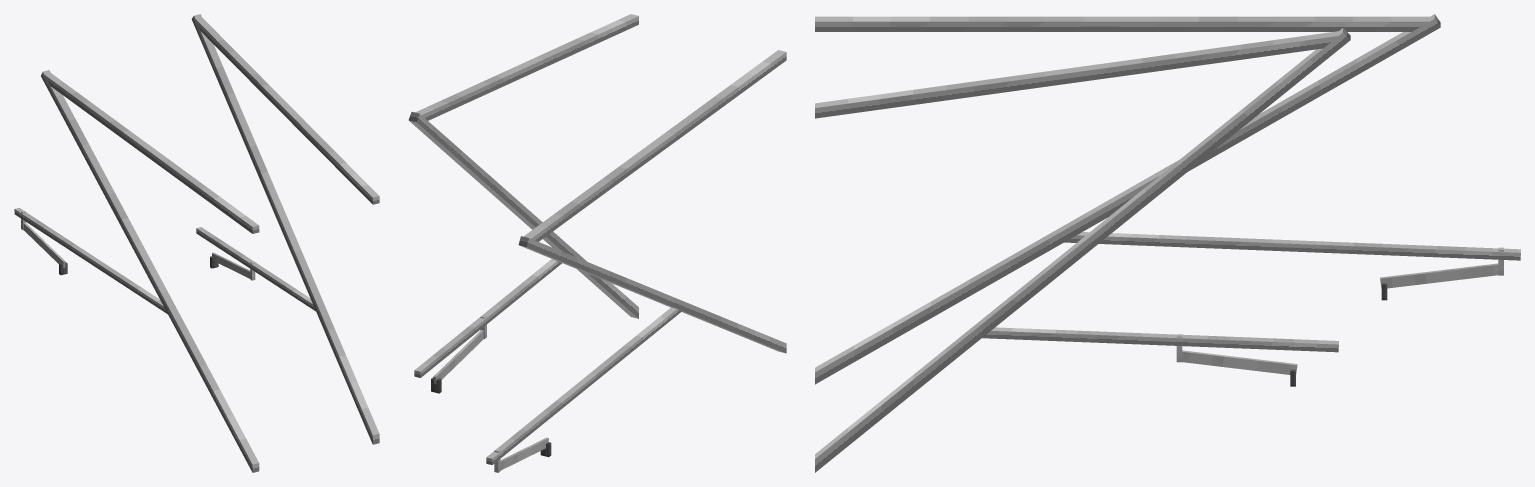
Rendered from cantilever_center_4px.obj.
3 renders of one model, left to right at view 1: azimuth 30°, elevation 25°; view 2: azimuth 150°, elevation 25°; view 3: azimuth 270°, elevation 25°, orthographic. The views are drawn at different scales.
Parts seen in each view (by area): view 1: b5a1ad8d-24fb-4c48-b603-6a2b8c5637f5, fe001e70-6988-444d-b9f4-202b1eba5b4e, 249144de-5c40-4c9c-9e65-23805a752ef8, 2f98334c-fcbb-4794-8dc1-188dc500f220, db811776-64b1-4674-a29a-4e8ae3a3de66, 60c98d07-7325-4ce7-8a82-6d3549a193d3, fd394bd4-345e-45ac-b3c0-b023b3534b70; view 2: 249144de-5c40-4c9c-9e65-23805a752ef8, b5a1ad8d-24fb-4c48-b603-6a2b8c5637f5, 2f98334c-fcbb-4794-8dc1-188dc500f220, fe001e70-6988-444d-b9f4-202b1eba5b4e, db811776-64b1-4674-a29a-4e8ae3a3de66, 60c98d07-7325-4ce7-8a82-6d3549a193d3, 1dd75f70-cd3e-4e54-8dca-53d78babf76a, fd394bd4-345e-45ac-b3c0-b023b3534b70; view 3: b5a1ad8d-24fb-4c48-b603-6a2b8c5637f5, 249144de-5c40-4c9c-9e65-23805a752ef8, fe001e70-6988-444d-b9f4-202b1eba5b4e, 2f98334c-fcbb-4794-8dc1-188dc500f220, db811776-64b1-4674-a29a-4e8ae3a3de66, 60c98d07-7325-4ce7-8a82-6d3549a193d3, fd394bd4-345e-45ac-b3c0-b023b3534b70, 1dd75f70-cd3e-4e54-8dca-53d78babf76a.
Part boxes in pixels (x1=…): b5a1ad8d-24fb-4c48-b603-6a2b8c5637f5: x1=191, y1=14, x2=379, y2=444; fe001e70-6988-444d-b9f4-202b1eba5b4e: x1=41, y1=70, x2=259, y2=472; 249144de-5c40-4c9c-9e65-23805a752ef8: x1=45, y1=73, x2=259, y2=233; 2f98334c-fcbb-4794-8dc1-188dc500f220: x1=195, y1=17, x2=379, y2=204; db811776-64b1-4674-a29a-4e8ae3a3de66: x1=14, y1=208, x2=167, y2=314; 60c98d07-7325-4ce7-8a82-6d3549a193d3: x1=196, y1=227, x2=315, y2=311; fd394bd4-345e-45ac-b3c0-b023b3534b70: x1=23, y1=222, x2=65, y2=267; 249144de-5c40-4c9c-9e65-23805a752ef8: x1=524, y1=50, x2=786, y2=241; b5a1ad8d-24fb-4c48-b603-6a2b8c5637f5: x1=408, y1=112, x2=638, y2=318; 2f98334c-fcbb-4794-8dc1-188dc500f220: x1=415, y1=14, x2=638, y2=120; fe001e70-6988-444d-b9f4-202b1eba5b4e: x1=518, y1=236, x2=786, y2=353; db811776-64b1-4674-a29a-4e8ae3a3de66: x1=486, y1=307, x2=681, y2=464; 60c98d07-7325-4ce7-8a82-6d3549a193d3: x1=414, y1=259, x2=561, y2=377; 1dd75f70-cd3e-4e54-8dca-53d78babf76a: x1=433, y1=330, x2=483, y2=384; fd394bd4-345e-45ac-b3c0-b023b3534b70: x1=500, y1=437, x2=548, y2=470; b5a1ad8d-24fb-4c48-b603-6a2b8c5637f5: x1=815, y1=28, x2=1350, y2=472; 249144de-5c40-4c9c-9e65-23805a752ef8: x1=815, y1=16, x2=1429, y2=31; fe001e70-6988-444d-b9f4-202b1eba5b4e: x1=815, y1=14, x2=1440, y2=384; 2f98334c-fcbb-4794-8dc1-188dc500f220: x1=815, y1=31, x2=1338, y2=118; db811776-64b1-4674-a29a-4e8ae3a3de66: x1=1064, y1=232, x2=1520, y2=260; 60c98d07-7325-4ce7-8a82-6d3549a193d3: x1=982, y1=327, x2=1338, y2=352; fd394bd4-345e-45ac-b3c0-b023b3534b70: x1=1380, y1=263, x2=1498, y2=288; 1dd75f70-cd3e-4e54-8dca-53d78babf76a: x1=1182, y1=350, x2=1297, y2=374.
Size of the model in its own units: 1.19 by 2.67 by 3.87.
